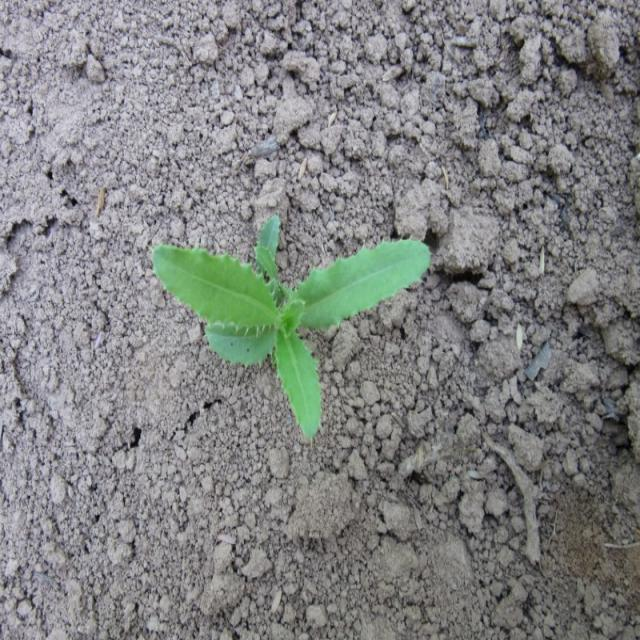cs: (147, 205, 435, 449)
